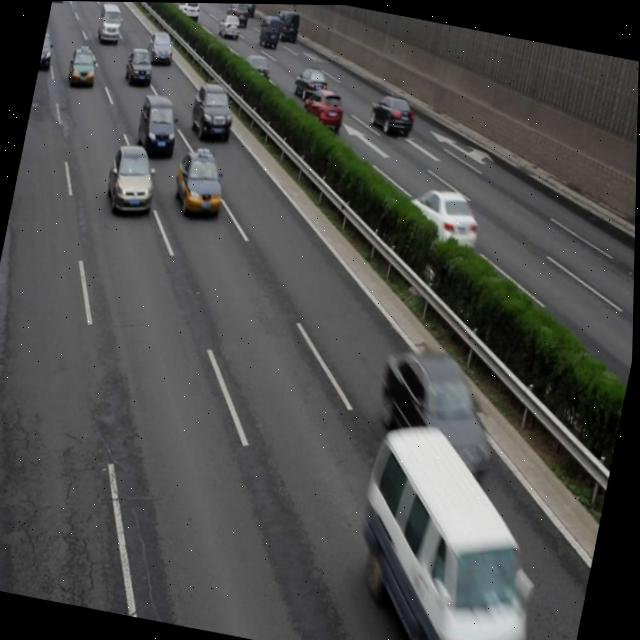car: (371, 343, 509, 476), (403, 182, 484, 252), (170, 143, 231, 218), (103, 141, 162, 218), (134, 93, 184, 156), (188, 81, 239, 141), (299, 83, 346, 129), (367, 92, 416, 136), (66, 45, 100, 89), (124, 46, 156, 87), (292, 65, 328, 101), (239, 52, 273, 83), (145, 31, 175, 66), (256, 13, 283, 48), (217, 12, 241, 40), (224, 3, 249, 29), (39, 33, 56, 70), (176, 2, 201, 21), (236, 3, 256, 16)
truck: (341, 418, 566, 640), (95, 2, 125, 45), (272, 6, 301, 43)
